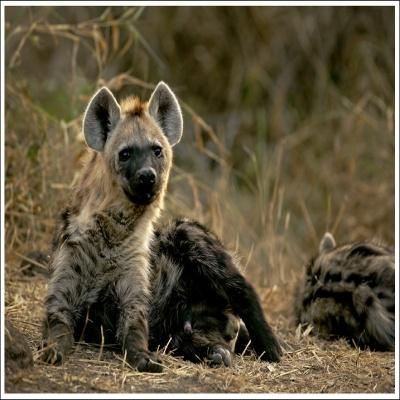hyenas: (47, 50, 286, 387)
